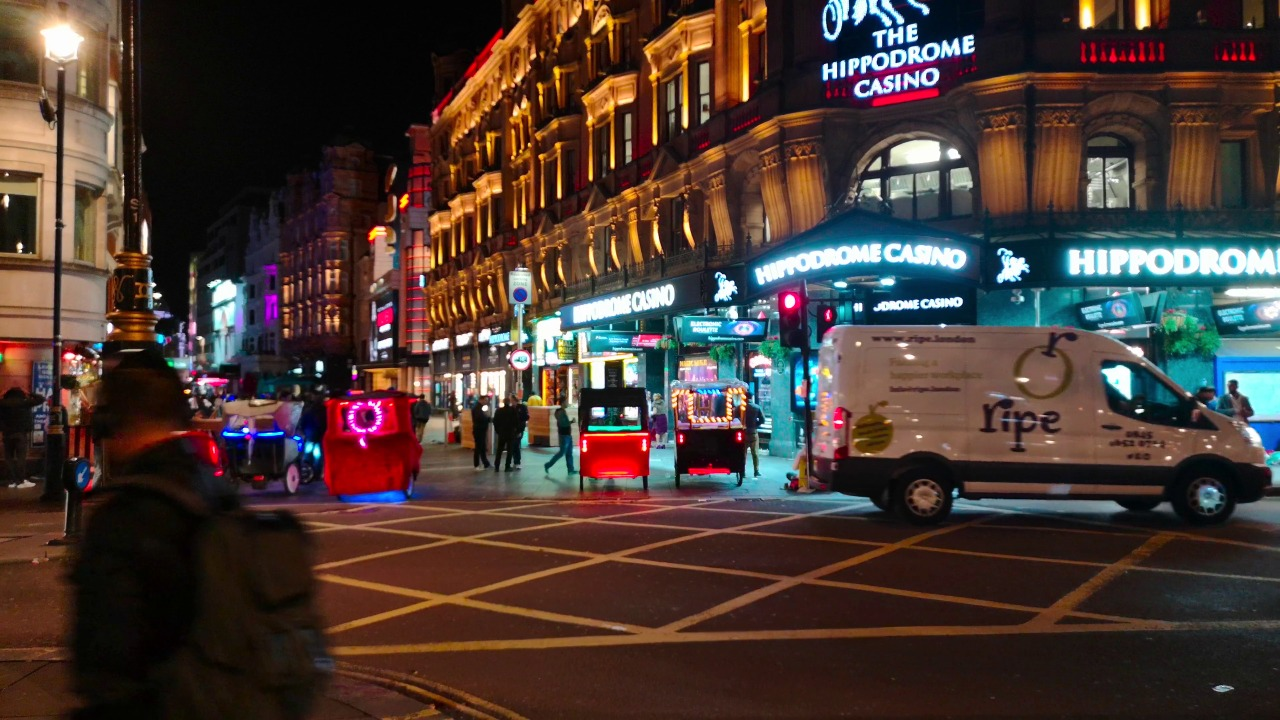car: (811, 315, 1270, 524), (319, 394, 421, 504), (220, 395, 312, 496), (574, 387, 659, 496), (670, 376, 747, 490), (199, 418, 230, 487)
person: (57, 353, 335, 720), (4, 384, 40, 490), (543, 395, 581, 476), (738, 393, 766, 480), (471, 394, 493, 472), (494, 397, 515, 476), (1222, 377, 1253, 429), (786, 434, 813, 488), (66, 377, 89, 432), (511, 394, 527, 473), (654, 394, 671, 452), (642, 390, 659, 437), (712, 384, 735, 417), (413, 393, 427, 444), (1193, 382, 1207, 405), (1205, 388, 1217, 412), (526, 389, 542, 406)
